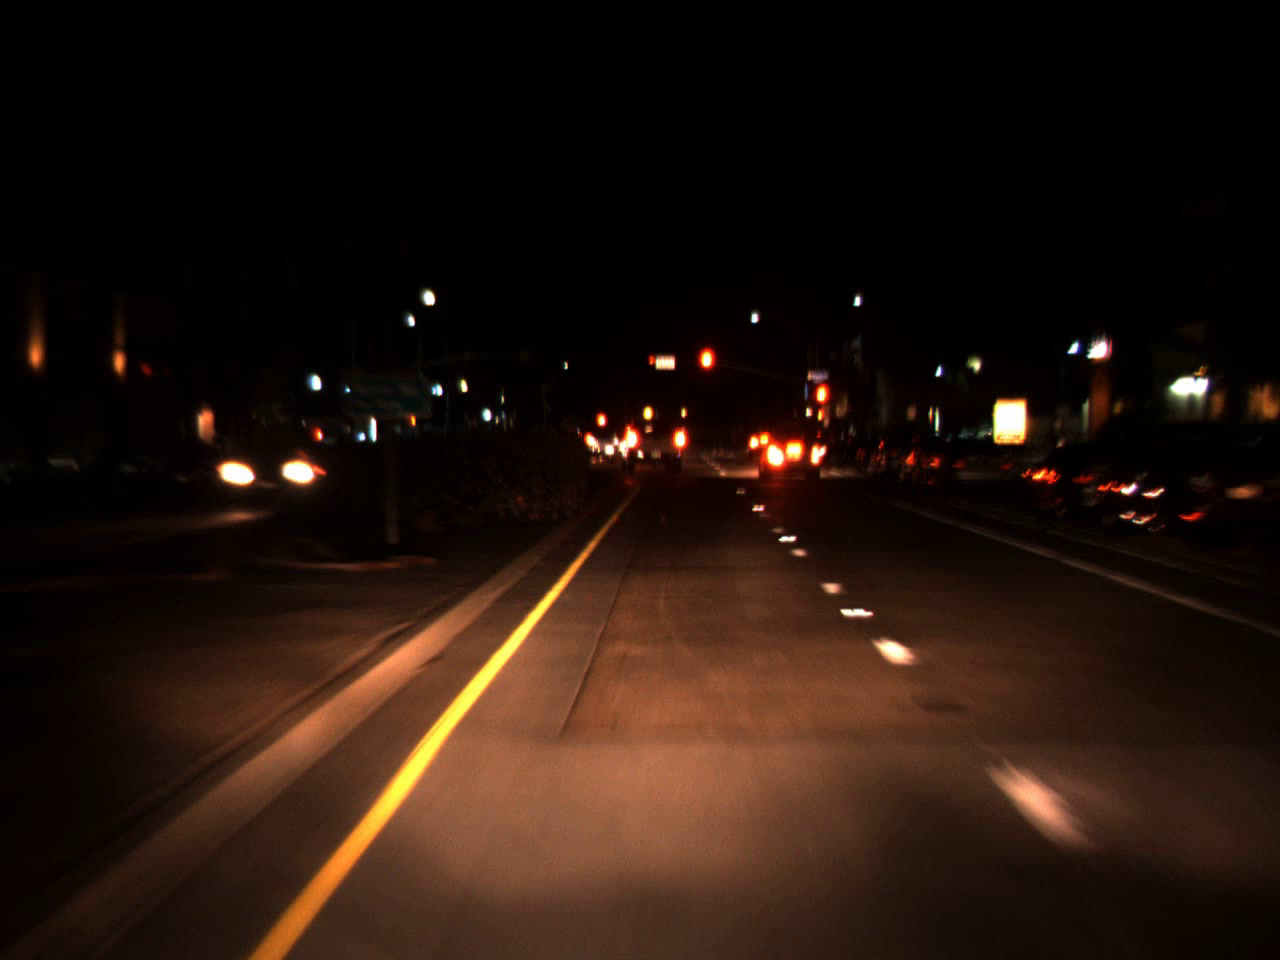stop: (696, 344, 717, 395), (812, 379, 831, 433), (648, 354, 657, 375)
